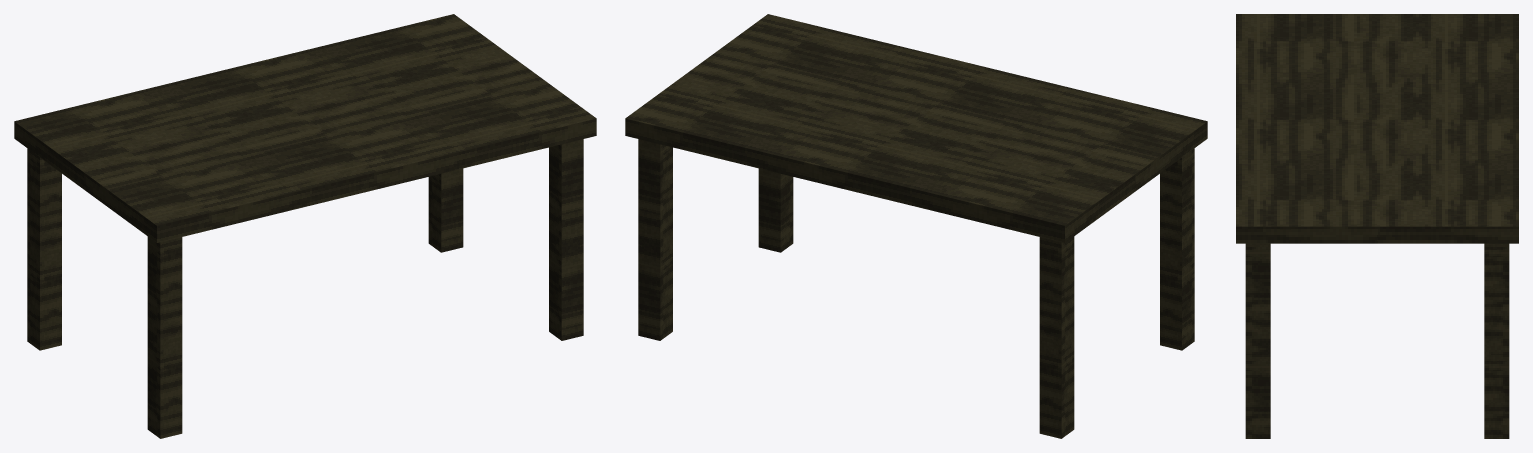
The model's file is Table_Dining.fbx.
The picture shows the model from 3 angles, left to right: view 1: azimuth 30°, elevation 25°; view 2: azimuth 150°, elevation 25°; view 3: azimuth 270°, elevation 25°; orthographic projection.
Visible parts, largest first — view 1: Table_Dining; view 2: Table_Dining; view 3: Table_Dining.
Boxes of the visible parts, x1,y1,x2,y2 form: Table_Dining: (14,14,596,438); Table_Dining: (625,14,1207,438); Table_Dining: (1236,14,1518,438).
Bounding box in the file's own units: 1.6 × 0.76 × 0.9.
Materials: 1 (1 with a texture image).
